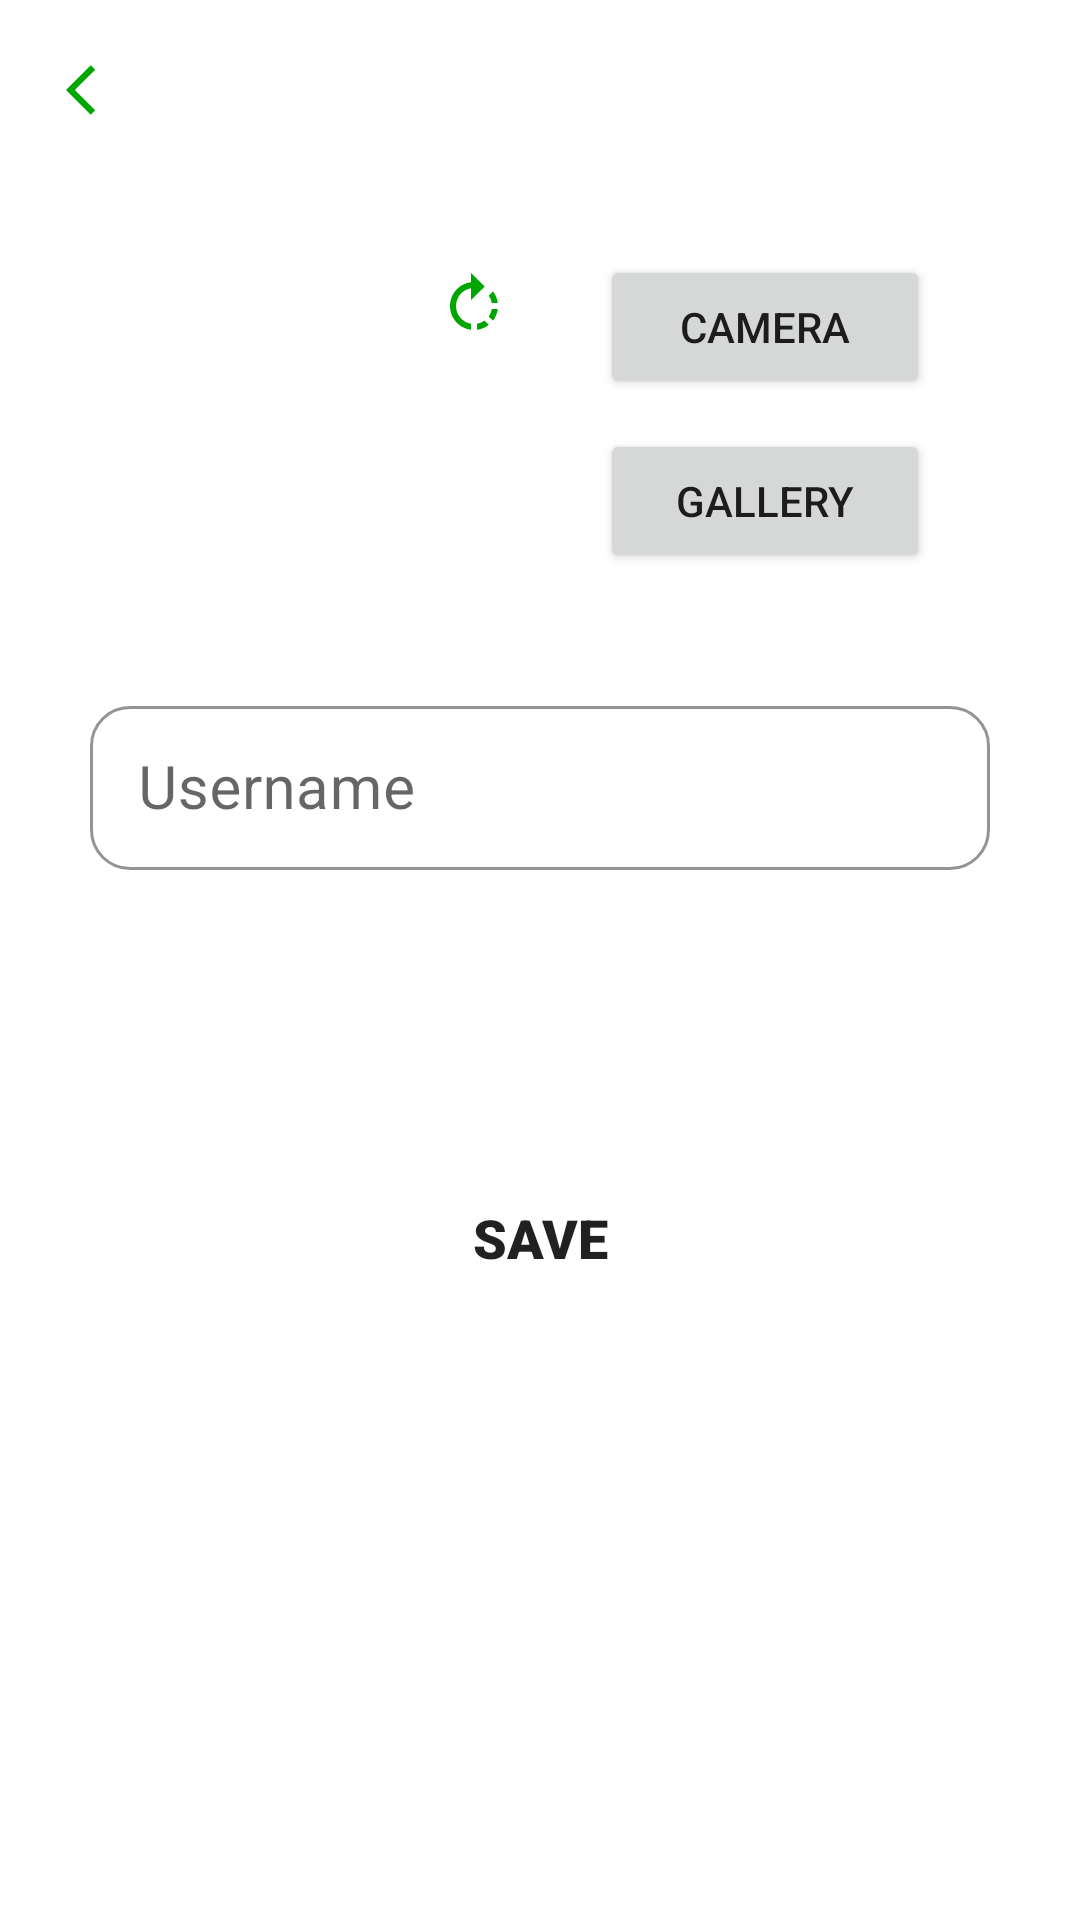

Icon click points for this 1080×1920 phone screenshot, format point (x, y):
back: point (80, 90)
rotate: point (474, 301)
